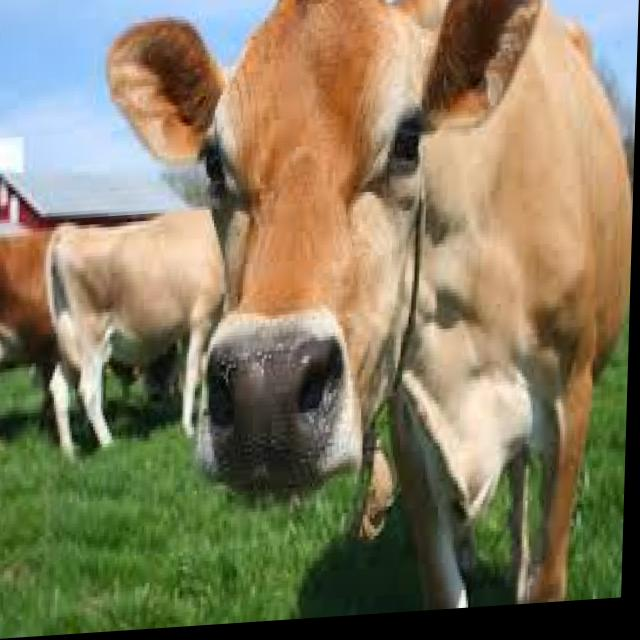cowFace: (100, 0, 555, 535)
